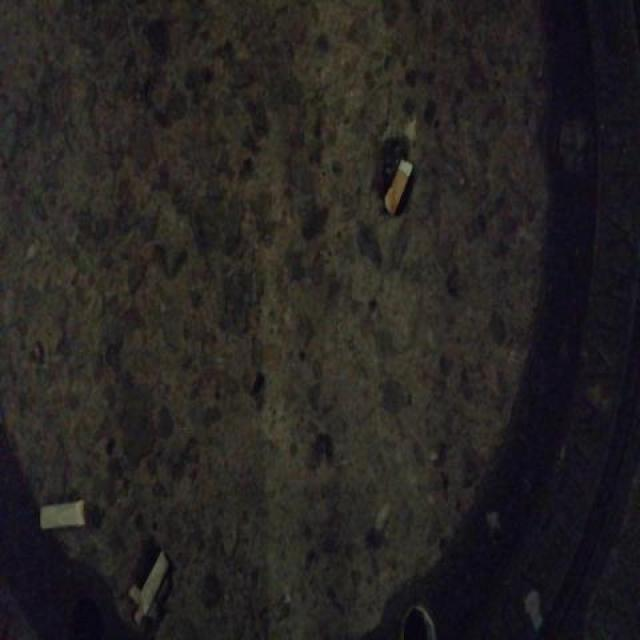non-organic waste: (132, 546, 172, 618), (378, 155, 415, 221), (36, 496, 91, 536)
